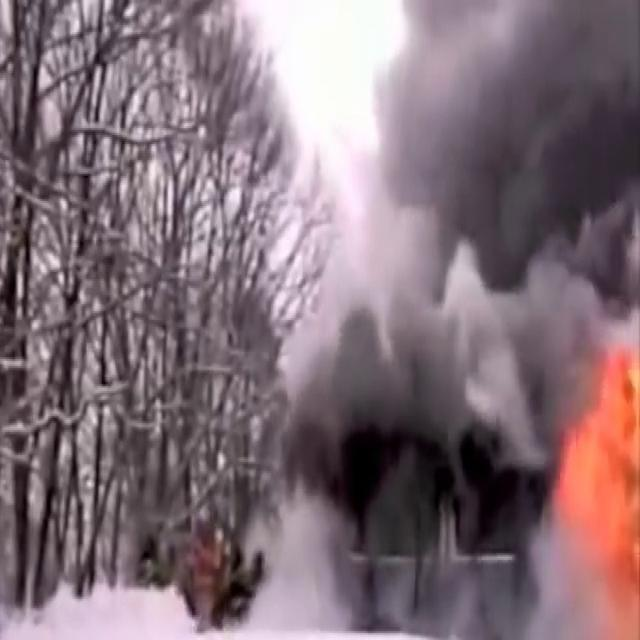Fire: (553, 330, 640, 636)
Smoke: (228, 0, 640, 620)
